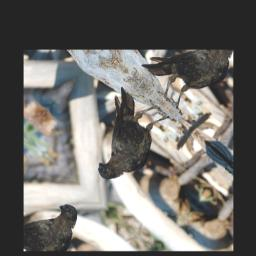Crow: (66, 78, 183, 195)
